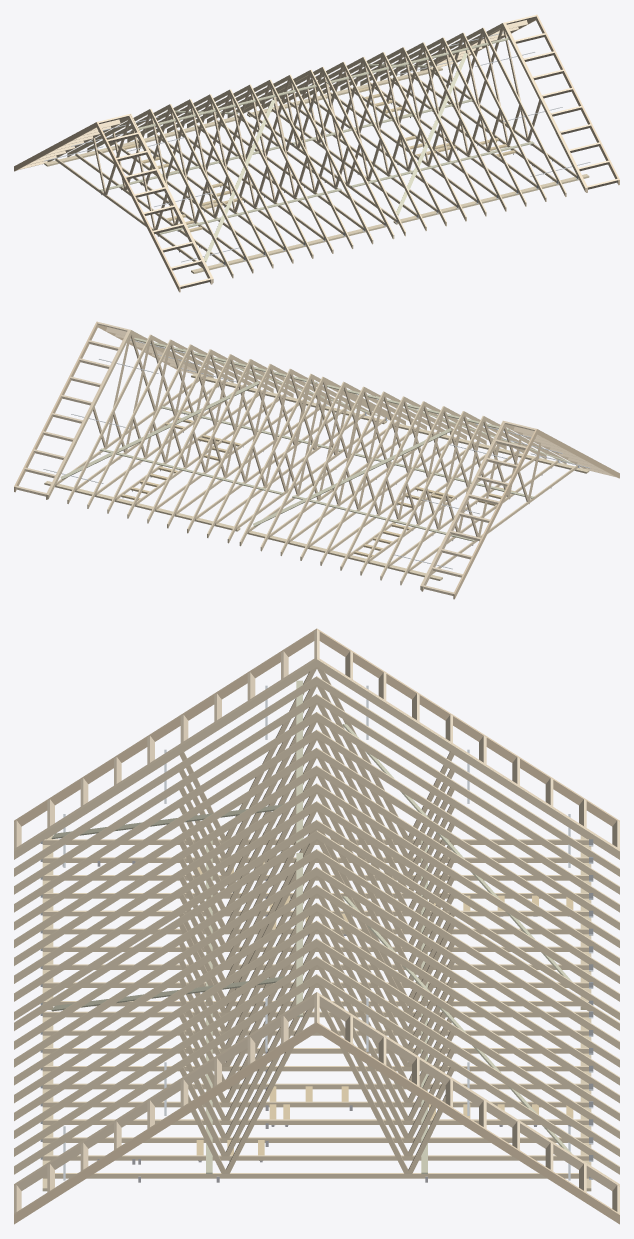
File: stage-5.glb
3 renders of one model, top to bottom at view 1: azimuth 30°, elevation 25°; view 2: azimuth 150°, elevation 25°; view 3: azimuth 270°, elevation 25°, orthographic. The views are drawn at different scales.
Parts seen in each view (by area): view 1: Geom3D_TC01 truss chord 35 x 97 TR26 L5253, Geom3D_TW04 truss web 35 x 72 TR26 L1590, Geom3D_BN71 binder 22 x 97 C16 L5460, Geom3D_OR78 outrigger 47 x 122 TR26 L910, Geom3D, Geom3D_BG76 barge 47 x 122 TR26 L5253, Geom3D_LR77 ladder rail 47 x 122 TR26 L5253, Geom3D_47 x 97 TR26 flat ceiling noggin 565 (F7), Geom3D_TCP38 clip; view 2: Geom3D_TC01 truss chord 35 x 97 TR26 L5253, Geom3D_TW04 truss web 35 x 72 TR26 L1590, Geom3D_BN71 binder 22 x 97 C16 L5460, Geom3D_OR78 outrigger 47 x 122 TR26 L910, Geom3D, Geom3D_BG76 barge 47 x 122 TR26 L5253, Geom3D_LR77 ladder rail 47 x 122 TR26 L5253, Geom3D_47 x 97 TR26 flat ceiling noggin 565 (F7), Geom3D_TCP38 clip; view 3: Geom3D_TC01 truss chord 35 x 97 TR26 L5253, Geom3D_TW04 truss web 35 x 72 TR26 L1590, Geom3D_BG76 barge 47 x 122 TR26 L5253, Geom3D_LR77 ladder rail 47 x 122 TR26 L5253, Geom3D_OR78 outrigger 47 x 122 TR26 L910, Geom3D_BN71 binder 22 x 97 C16 L5460, Geom3D, Geom3D_TCP38 clip, Geom3D_47 x 97 TR26 flat ceiling noggin 565 (F7).
Boxes of the visible parts, bbox=[...] form: Geom3D_TC01 truss chord 35 x 97 TR26 L5253: bbox=[55, 22, 586, 282]; Geom3D_TW04 truss web 35 x 72 TR26 L1590: bbox=[92, 27, 540, 230]; Geom3D_BN71 binder 22 x 97 C16 L5460: bbox=[99, 37, 534, 261]; Geom3D_OR78 outrigger 47 x 122 TR26 L910: bbox=[18, 15, 618, 288]; Geom3D: bbox=[44, 66, 589, 273]; Geom3D_BG76 barge 47 x 122 TR26 L5253: bbox=[14, 14, 619, 292]; Geom3D_LR77 ladder rail 47 x 122 TR26 L5253: bbox=[47, 22, 587, 284]; Geom3D_47 x 97 TR26 flat ceiling noggin 565 (F7): bbox=[122, 86, 515, 232]; Geom3D_TCP38 clip: bbox=[43, 32, 590, 270]; Geom3D_TC01 truss chord 35 x 97 TR26 L5253: bbox=[47, 329, 577, 589]; Geom3D_TW04 truss web 35 x 72 TR26 L1590: bbox=[93, 334, 541, 537]; Geom3D_BN71 binder 22 x 97 C16 L5460: bbox=[60, 338, 572, 541]; Geom3D_OR78 outrigger 47 x 122 TR26 L910: bbox=[15, 322, 615, 595]; Geom3D: bbox=[44, 373, 589, 580]; Geom3D_BG76 barge 47 x 122 TR26 L5253: bbox=[14, 321, 619, 599]; Geom3D_LR77 ladder rail 47 x 122 TR26 L5253: bbox=[46, 329, 586, 591]; Geom3D_47 x 97 TR26 flat ceiling noggin 565 (F7): bbox=[121, 410, 514, 557]; Geom3D_TCP38 clip: bbox=[43, 339, 590, 569]; Geom3D_TC01 truss chord 35 x 97 TR26 L5253: bbox=[14, 658, 619, 1184]; Geom3D_TW04 truss web 35 x 72 TR26 L1590: bbox=[179, 667, 454, 1173]; Geom3D_BG76 barge 47 x 122 TR26 L5253: bbox=[14, 628, 619, 1224]; Geom3D_LR77 ladder rail 47 x 122 TR26 L5253: bbox=[14, 657, 619, 1190]; Geom3D_OR78 outrigger 47 x 122 TR26 L910: bbox=[14, 630, 619, 1213]; Geom3D_BN71 binder 22 x 97 C16 L5460: bbox=[51, 680, 572, 1173]; Geom3D: bbox=[42, 835, 591, 1191]; Geom3D_TCP38 clip: bbox=[40, 685, 593, 1180]; Geom3D_47 x 97 TR26 flat ceiling noggin 565 (F7): bbox=[196, 862, 573, 1155].
Bounding box in the file's own units: 13.26 × 3.16 × 8.61.
